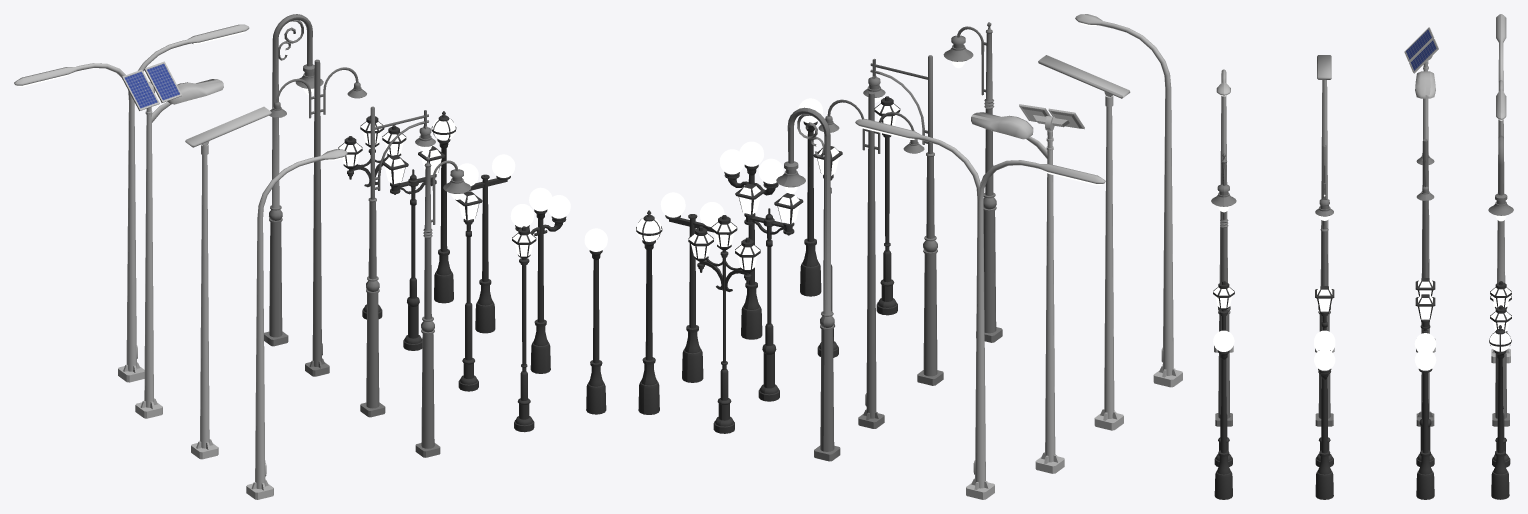
3 renders of one model, left to right at view 1: azimuth 30°, elevation 25°; view 2: azimuth 150°, elevation 25°; view 3: azimuth 270°, elevation 25°, orthographic. The views are drawn at different scales.
Visible parts, largest first — view 1: streetLights_largeLight_longDouble_streetLights_lightColors_, streetLights_arcLight_style3_streetLights_lightColors_0, streetLights_arcLight_style1_streetLights_lightColors_0, streetLights_arcLight_style2_streetLights_lightColors_0, streetLights_largeLight_LED_flat_streetLights_lightColors_0, streetLights_arcLight_double_streetLights_lightColors_0, streetLights_largeLight_LED_wavy_streetLights_lightColors_0, streetLights_largeLight_small_streetLights_lightColors_0, streetLights_globeLight_triple_streetLights_lightColors_0, streetLights_victorianLight_double_streetLights_lightColors_, streetLights_globeLight_double_streetLights_lightColors_0, streetLights_globeLight_single_streetLights_lightColors_0 (+5 smaller); view 2: streetLights_largeLight_longDouble_streetLights_lightColors_, streetLights_arcLight_style3_streetLights_lightColors_0, streetLights_largeLight_LED_flat_streetLights_lightColors_0, streetLights_largeLight_LED_wavy_streetLights_lightColors_0, streetLights_arcLight_style2_streetLights_lightColors_0, streetLights_arcLight_double_streetLights_lightColors_0, streetLights_largeLight_small_streetLights_lightColors_0, streetLights_arcLight_style1_streetLights_lightColors_0, streetLights_victorianLight_hexagon_triple_streetLights_ligh, streetLights_victorianLight_double_streetLights_lightColors_, streetLights_globeLight_triple_streetLights_lightColors_0, streetLights_globeLight_double_streetLights_lightColors_0 (+5 smaller); view 3: streetLights_globeLight_triple_streetLights_lightColors_0, streetLights_globeLight_double_streetLights_lightColors_0, streetLights_arcLight_style1_streetLights_lightColors_0, streetLights_arcLight_style3_streetLights_lightColors_0, streetLights_globeLight_single_fancy_streetLights_lightColor, streetLights_globeLight_single_streetLights_lightColors_0, streetLights_arcLight_style2_streetLights_lightColors_0, streetLights_arcLight_double_streetLights_lightColors_0, streetLights_largeLight_longDouble_streetLights_lightColors_, streetLights_largeLight_LED_flat_streetLights_lightColors_0, streetLights_victorianLight_double_streetLights_lightColors_, streetLights_victorianLight_hexagon_triple_streetLights_ligh (+6 smaller).
Part boxes in pixels (<box>): streetLights_largeLight_longDouble_streetLights_lightColors_: <box>14,24,249,382</box>; streetLights_arcLight_style3_streetLights_lightColors_0: <box>264,14,323,346</box>; streetLights_arcLight_style1_streetLights_lightColors_0: <box>415,156,471,457</box>; streetLights_arcLight_style2_streetLights_lightColors_0: <box>360,106,435,417</box>; streetLights_largeLight_LED_flat_streetLights_lightColors_0: <box>185,106,271,459</box>; streetLights_arcLight_double_streetLights_lightColors_0: <box>269,59,366,376</box>; streetLights_largeLight_LED_wavy_streetLights_lightColors_0: <box>135,79,223,418</box>; streetLights_largeLight_small_streetLights_lightColors_0: <box>246,149,347,499</box>; streetLights_globeLight_triple_streetLights_lightColors_0: <box>510,187,570,373</box>; streetLights_victorianLight_double_streetLights_lightColors_: <box>382,146,445,350</box>; streetLights_globeLight_double_streetLights_lightColors_0: <box>458,154,515,333</box>; streetLights_globeLight_single_streetLights_lightColors_0: <box>584,228,607,414</box>; streetLights_largeLight_longDouble_streetLights_lightColors_: <box>855,119,1105,499</box>; streetLights_arcLight_style3_streetLights_lightColors_0: <box>776,107,840,461</box>; streetLights_largeLight_LED_flat_streetLights_lightColors_0: <box>1038,55,1130,430</box>; streetLights_largeLight_LED_wavy_streetLights_lightColors_0: <box>971,112,1064,473</box>; streetLights_arcLight_style2_streetLights_lightColors_0: <box>863,55,943,385</box>; streetLights_arcLight_double_streetLights_lightColors_0: <box>818,91,924,428</box>; streetLights_largeLight_small_streetLights_lightColors_0: <box>1075,14,1182,387</box>; streetLights_arcLight_style1_streetLights_lightColors_0: <box>943,22,1002,342</box>; streetLights_victorianLight_hexagon_triple_streetLights_ligh: <box>688,215,760,433</box>; streetLights_victorianLight_double_streetLights_lightColors_: <box>735,183,803,401</box>; streetLights_globeLight_triple_streetLights_lightColors_0: <box>719,141,783,339</box>; streetLights_globeLight_double_streetLights_lightColors_0: <box>660,192,724,382</box>; streetLights_globeLight_triple_streetLights_lightColors_0: <box>1314,330,1335,499</box>; streetLights_globeLight_double_streetLights_lightColors_0: <box>1414,333,1436,499</box>; streetLights_arcLight_style1_streetLights_lightColors_0: <box>1211,153,1236,426</box>; streetLights_arcLight_style3_streetLights_lightColors_0: <box>1488,135,1513,426</box>; streetLights_globeLight_single_fancy_streetLights_lightColor: <box>1489,325,1511,499</box>; streetLights_globeLight_single_streetLights_lightColors_0: <box>1213,330,1234,499</box>; streetLights_arcLight_style2_streetLights_lightColors_0: <box>1315,145,1333,426</box>; streetLights_arcLight_double_streetLights_lightColors_0: <box>1416,139,1434,426</box>; streetLights_largeLight_longDouble_streetLights_lightColors_: <box>1491,14,1510,363</box>; streetLights_largeLight_LED_flat_streetLights_lightColors_0: <box>1315,55,1334,352</box>; streetLights_victorianLight_double_streetLights_lightColors_: <box>1415,278,1435,466</box>; streetLights_victorianLight_hexagon_triple_streetLights_ligh: <box>1490,281,1511,467</box>.
Bounding box in the file's own units: 13788 × 9819 × 8687.
19 materials, 19 textured.
